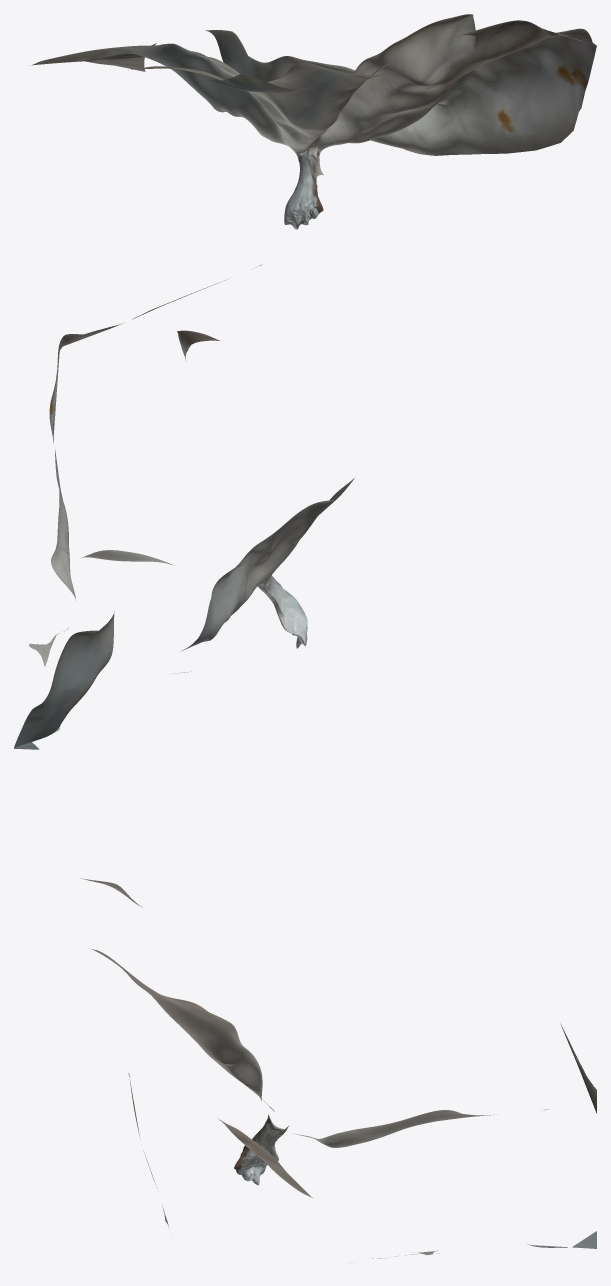
The model's file is Maintorchon.glb.
3 views of the same model, one above another, from view 1: azimuth 30°, elevation 25°; view 2: azimuth 150°, elevation 25°; view 3: azimuth 270°, elevation 25° (orthographic). The views are drawn at different scales.
Bounding box in the file's own units: 1.6 × 1.03 × 1.67.
1 material, 1 textured.
